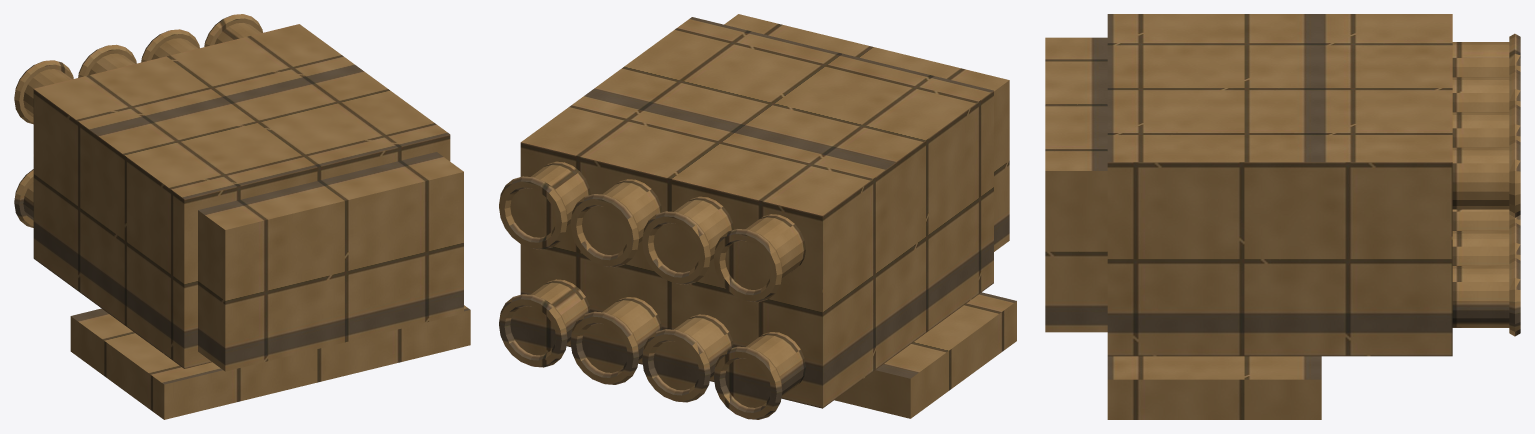
File: swarm8_pod.glb
3 views of the same model, side by side, from view 1: azimuth 30°, elevation 25°; view 2: azimuth 150°, elevation 25°; view 3: azimuth 270°, elevation 25° (orthographic). The views are drawn at different scales.
Parts seen in each view (by area): view 1: pod_shell, rear_bus, mount_frame, tube_lip_4, tube_4, tube_lip_6, tube_lip_5, tube_lip_7, tube_lip_0, tube_5, tube_6, tube_7; view 2: pod_shell, mount_frame, rear_bus, tube_0, tube_4, tube_1, tube_7, tube_2, tube_5, tube_3, tube_6, tube_lip_1 (+7 smaller); view 3: pod_shell, rear_bus, mount_frame, tube_7, tube_3, tube_6, tube_4, tube_5, tube_2, tube_1, tube_lip_3, tube_lip_7.
Boxes of the visible parts, x1,y1,x2,y2 form: pod_shell: [33, 24, 450, 368]; rear_bus: [198, 152, 463, 371]; mount_frame: [70, 305, 470, 419]; tube_lip_4: [14, 60, 73, 124]; tube_4: [23, 69, 71, 117]; tube_lip_6: [141, 29, 199, 62]; tube_lip_5: [78, 44, 136, 77]; tube_lip_7: [204, 14, 262, 46]; tube_lip_0: [14, 169, 33, 227]; tube_5: [88, 53, 134, 75]; tube_6: [151, 38, 198, 59]; tube_7: [214, 23, 261, 44]; pod_shell: [520, 17, 993, 408]; mount_frame: [834, 292, 1016, 418]; rear_bus: [724, 14, 1009, 251]; tube_0: [725, 332, 805, 407]; tube_4: [725, 214, 805, 289]; tube_1: [653, 314, 733, 390]; tube_7: [510, 161, 590, 237]; tube_2: [582, 297, 662, 372]; tube_5: [653, 196, 733, 272]; tube_3: [510, 279, 590, 355]; tube_6: [582, 179, 662, 255]; tube_lip_1: [642, 329, 710, 402]; pod_shell: [1107, 14, 1452, 356]; rear_bus: [1045, 37, 1107, 332]; mount_frame: [1107, 356, 1321, 419]; tube_7: [1452, 147, 1509, 209]; tube_3: [1452, 266, 1509, 327]; tube_6: [1452, 112, 1509, 147]; tube_4: [1452, 42, 1509, 77]; tube_5: [1452, 77, 1509, 112]; tube_2: [1452, 231, 1509, 265]; tube_1: [1452, 209, 1509, 230]; tube_lip_3: [1509, 258, 1520, 336]; tube_lip_7: [1509, 139, 1520, 217].
Size of the model in its own units: 1.36 by 0.915 by 1.6.
Materials: 1 (1 with a texture image).
